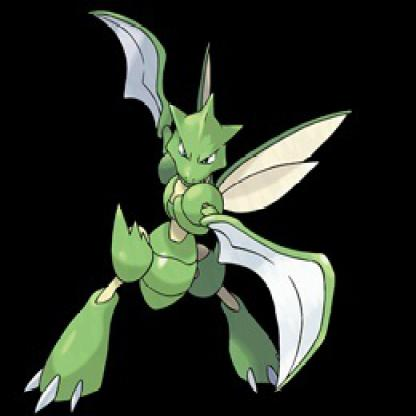Scyther: (28, 1, 344, 416)
